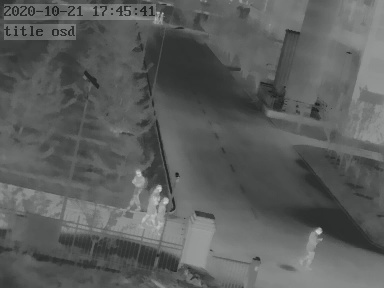person: (301, 224, 322, 269), (144, 184, 161, 228), (128, 169, 143, 216), (156, 198, 168, 237), (159, 10, 165, 27), (154, 11, 161, 25)
